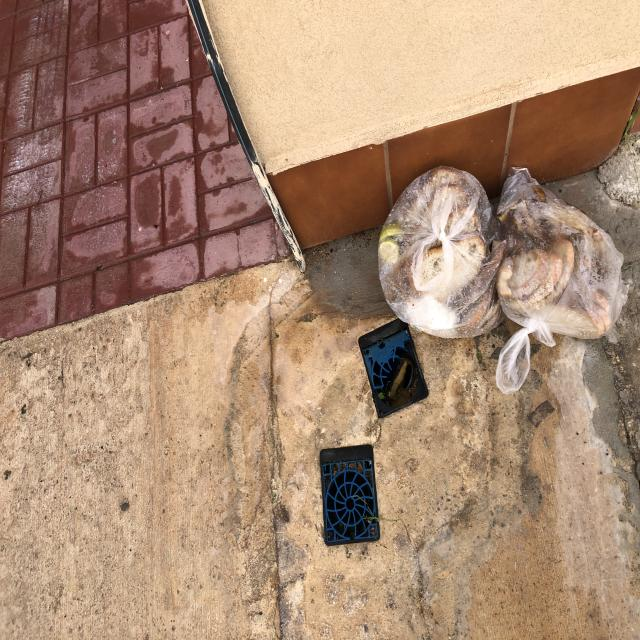Organic Waste -White Bag-: (498, 161, 628, 399), (374, 158, 502, 349)
